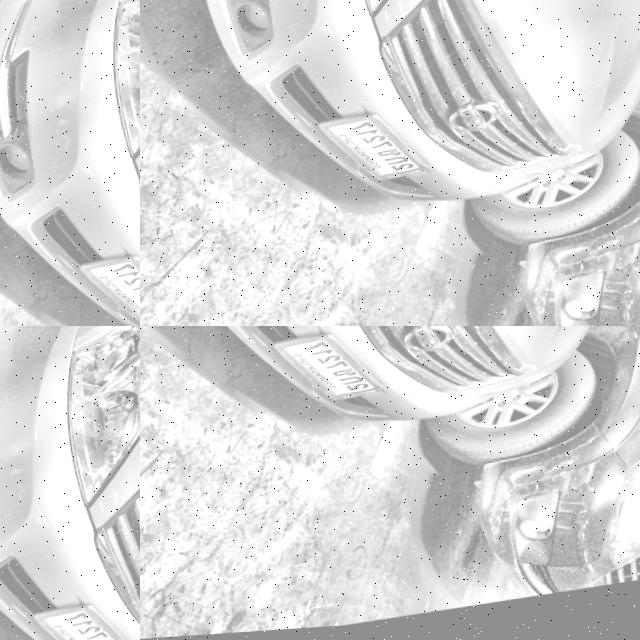license-plate: (44, 407, 140, 547), (272, 326, 388, 412)
